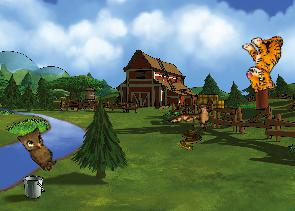eagle: (167, 87, 225, 145)
owl: (13, 121, 66, 173)
tiger: (236, 30, 294, 94)
